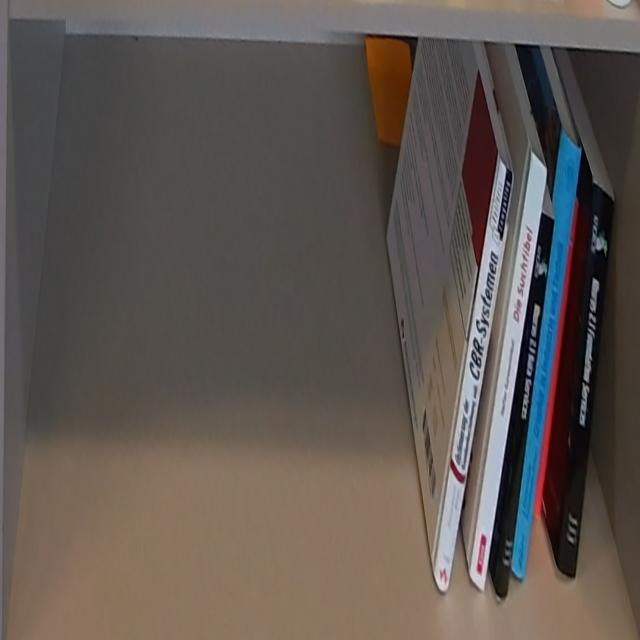Book Spine: (432, 152, 515, 594), (469, 151, 548, 593), (514, 129, 582, 582), (557, 181, 618, 582), (493, 214, 556, 602), (533, 197, 581, 520)
